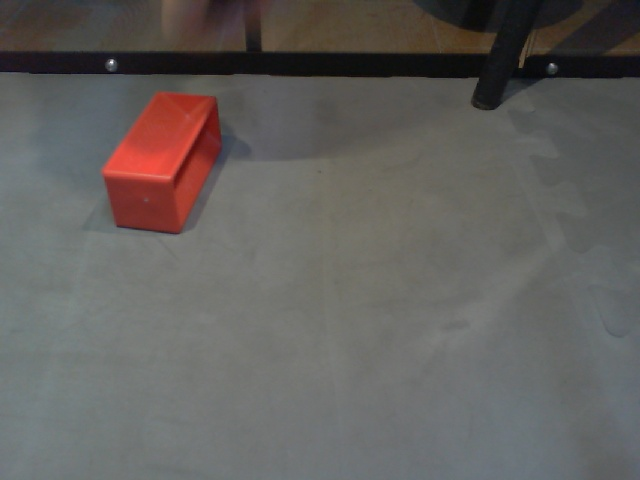RedSample: (103, 90, 225, 236)
